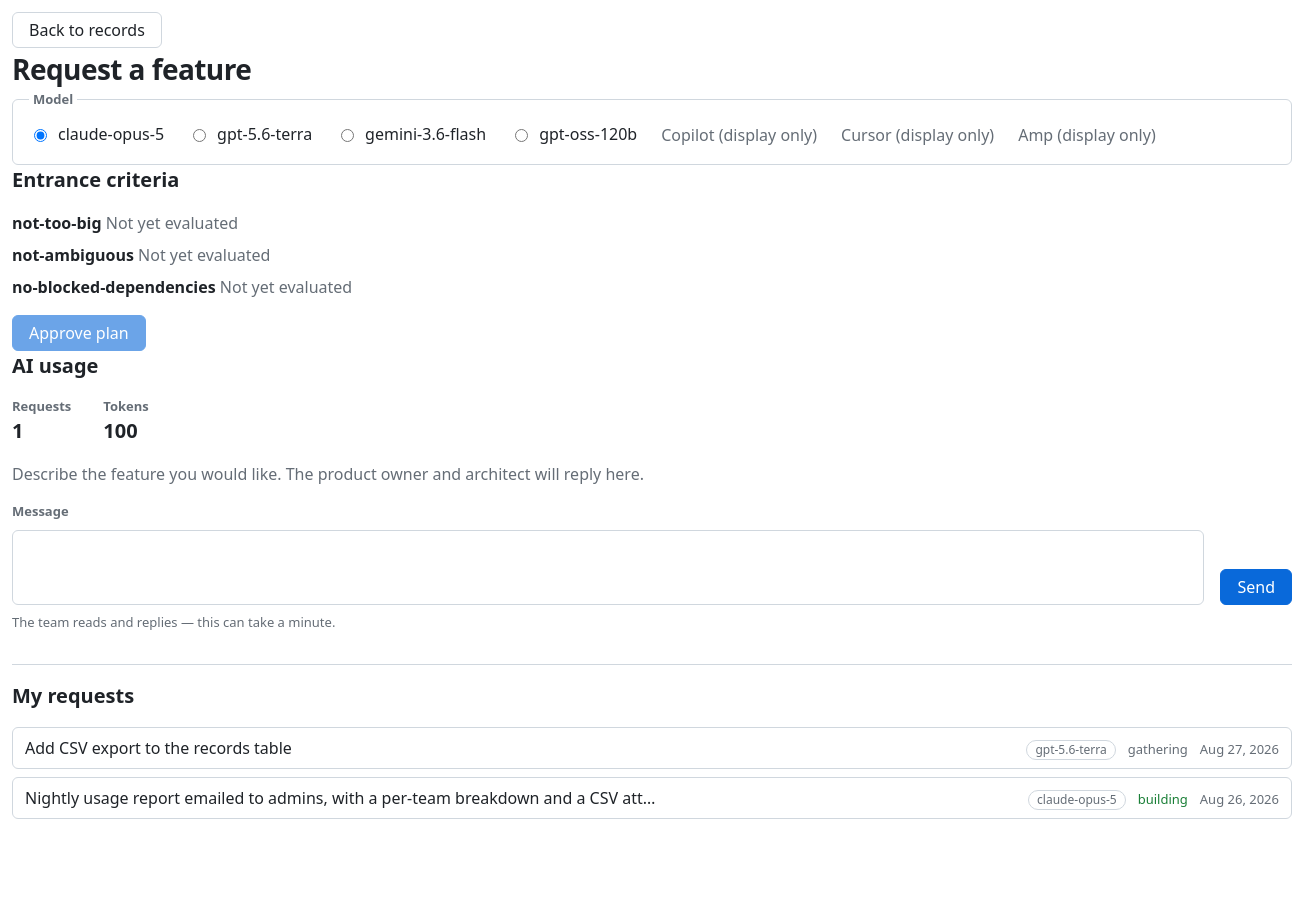
Test case: DAN-74 my-requests list › starting a brand-new request still works with the list showing, and unmounts it
The width and height of the screenshot is (1304, 912).
In the text box labelled "Message": (608, 567) [12,530,1204,604], type "A brand-new idea"
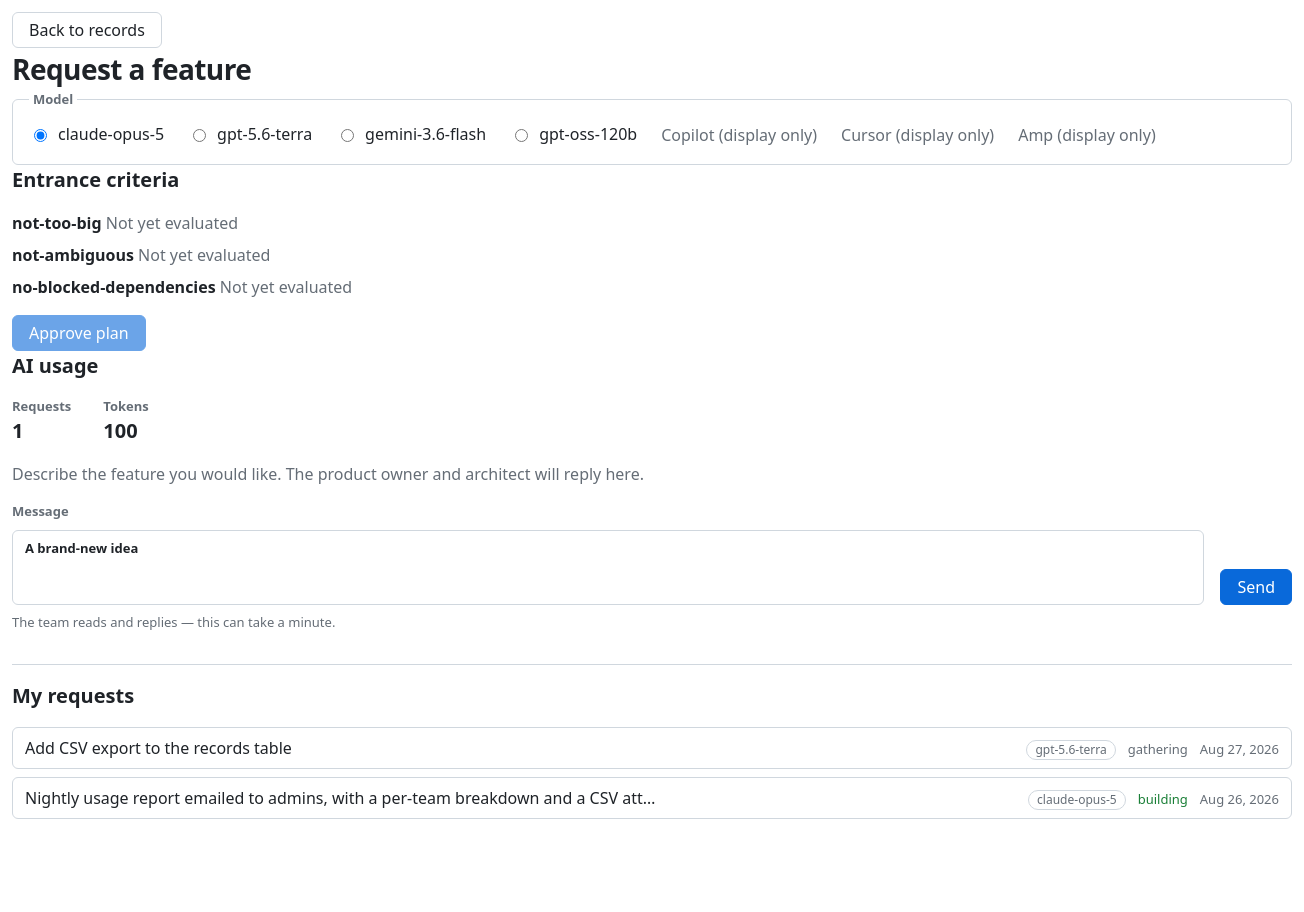
Click the button "Send": (1256, 586) [1220,568,1292,604]
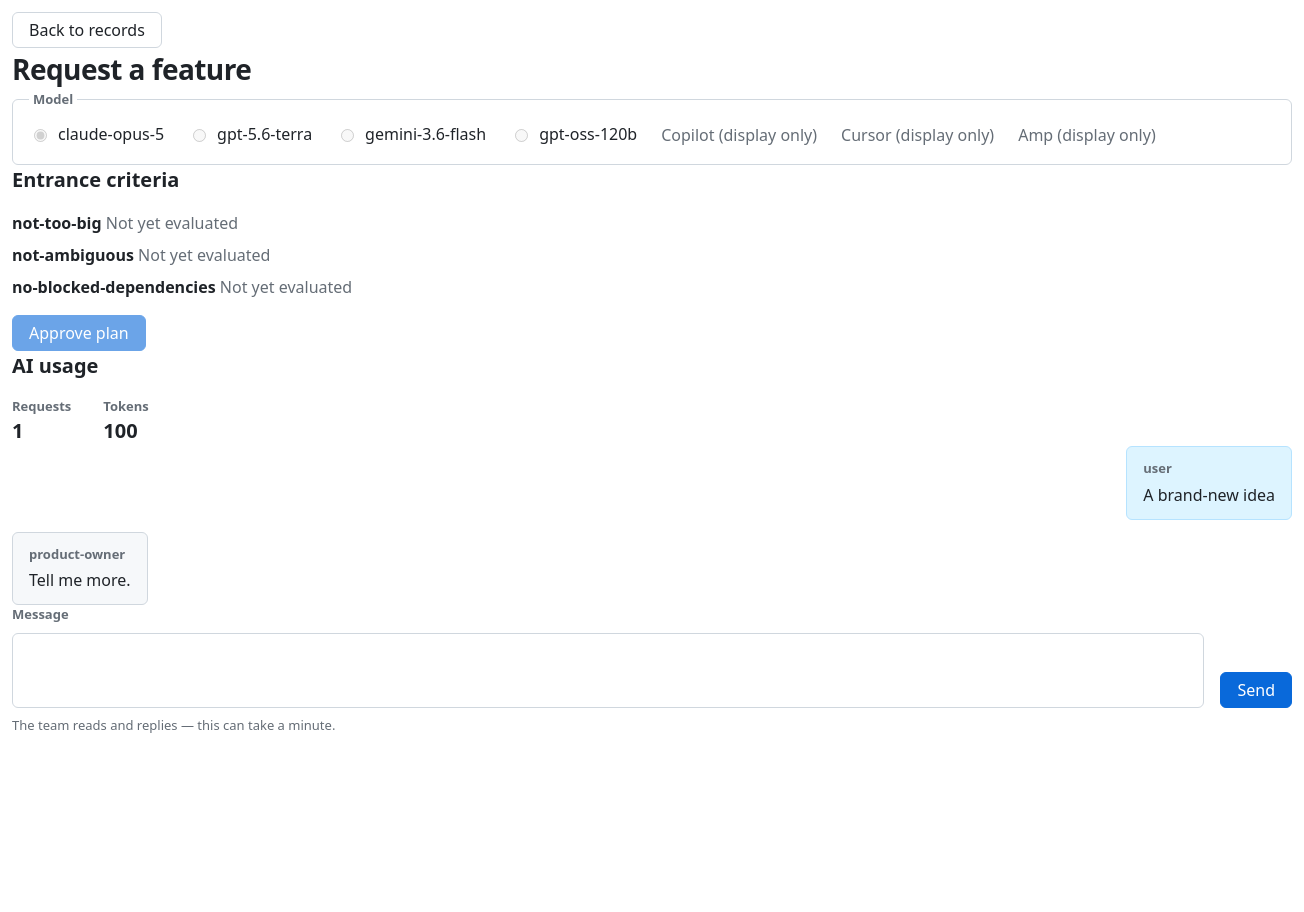
Now the list named "Conversation" is shown, box [12,446,1292,605]
Now the heading "My requests" is gone
